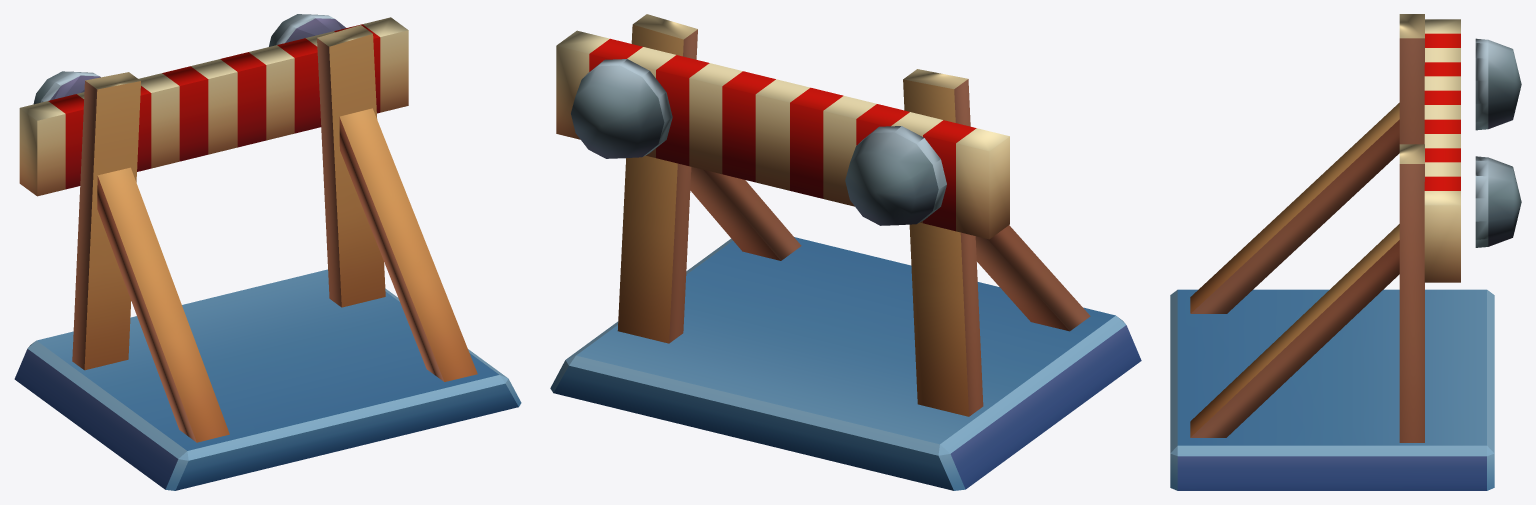
The model's file is 1.100_SanFrancisco_blocker_standard.glb.
3 renders of one model, left to right at view 1: azimuth 30°, elevation 25°; view 2: azimuth 150°, elevation 25°; view 3: azimuth 270°, elevation 25°, orthographic. The views are drawn at different scales.
Visible parts, largest first — view 1: 1.100_SanFrancisco_blocker_standard; view 2: 1.100_SanFrancisco_blocker_standard; view 3: 1.100_SanFrancisco_blocker_standard.
Part boxes in pixels (box(x1,y1,x2,y2)): 1.100_SanFrancisco_blocker_standard: box(14, 14, 521, 490); 1.100_SanFrancisco_blocker_standard: box(550, 14, 1141, 490); 1.100_SanFrancisco_blocker_standard: box(1170, 14, 1521, 490).
Bounding box in the file's own units: 19.38 × 15.52 × 15.5.
2 materials, 2 textured.
